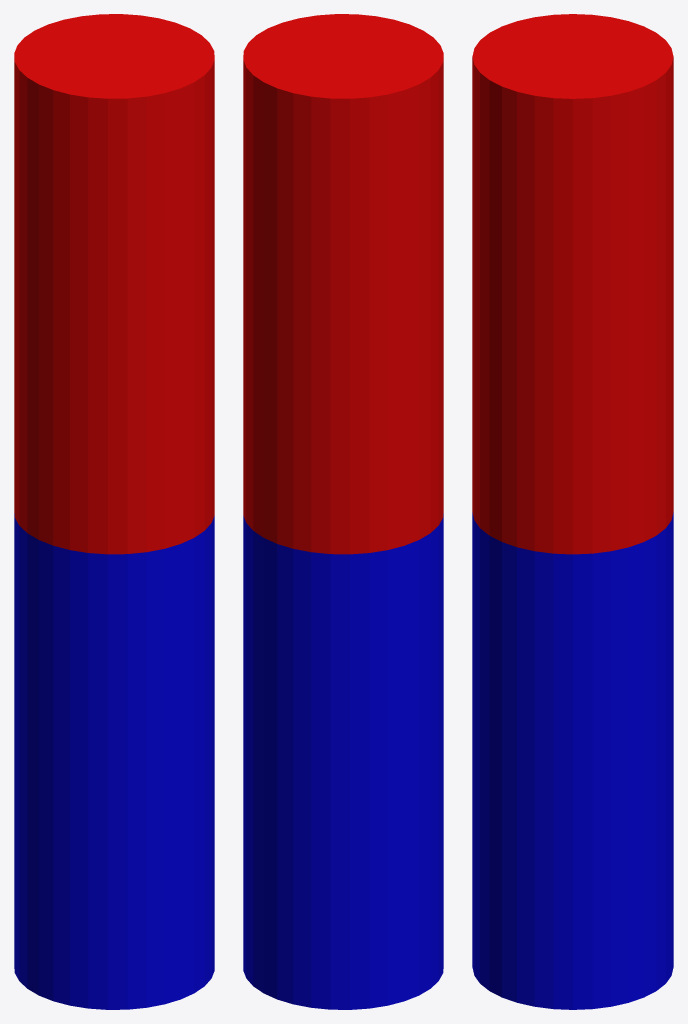
Rendered from bicolorRod.dae.
The picture shows the model from 3 angles, left to right: view 1: azimuth 30°, elevation 25°; view 2: azimuth 150°, elevation 25°; view 3: azimuth 270°, elevation 25°; orthographic projection.
Parts seen in each view (by area): view 1: Cylinder; view 2: Cylinder; view 3: Cylinder.
Part boxes in pixels (left/top/right/bottom): Cylinder: left=14, top=14, right=214, bottom=1009; Cylinder: left=243, top=14, right=443, bottom=1009; Cylinder: left=472, top=14, right=673, bottom=1009.
Size of the model in its own units: 0.04 by 0.04 by 0.2.
